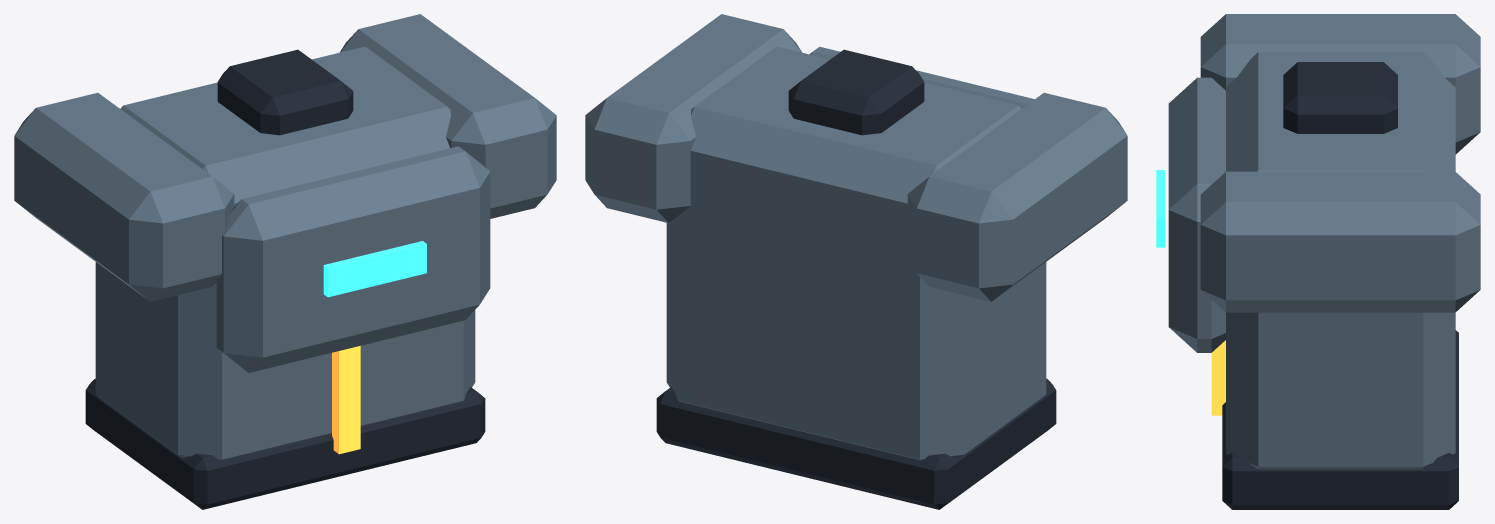
File: SM_NPC_Torso_003_Armor.glb
3 renders of one model, left to right at view 1: azimuth 30°, elevation 25°; view 2: azimuth 150°, elevation 25°; view 3: azimuth 270°, elevation 25°, orthographic.
Parts seen in each view (by area): view 1: SM_NPC_Torso_003_Armor; view 2: SM_NPC_Torso_003_Armor; view 3: SM_NPC_Torso_003_Armor.
Boxes of the visible parts, <box> form: SM_NPC_Torso_003_Armor: <box>14,14,556,509</box>; SM_NPC_Torso_003_Armor: <box>585,14,1127,509</box>; SM_NPC_Torso_003_Armor: <box>1156,14,1480,509</box>.
Size of the model in its own units: 0.69 by 0.56 by 0.452.
